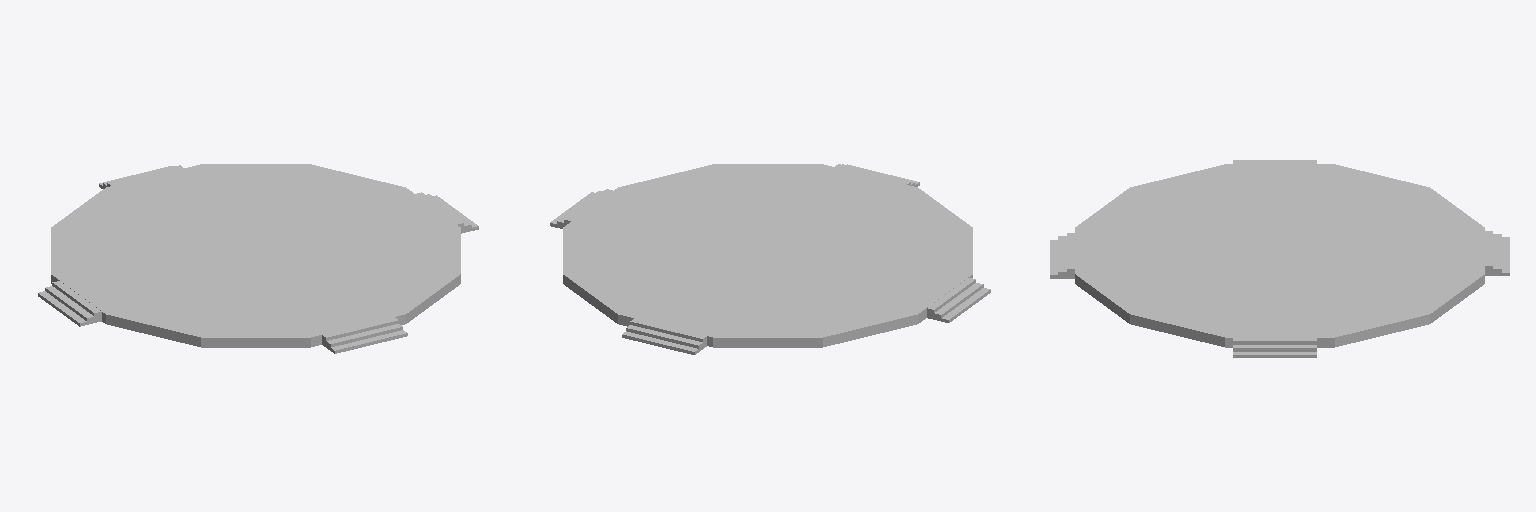
File: FightingPitPlatform.obj
3 renders of one model, left to right at view 1: azimuth 30°, elevation 25°; view 2: azimuth 150°, elevation 25°; view 3: azimuth 270°, elevation 25°, orthographic.
Visible parts, largest first — view 1: FightingPitPlatform; view 2: FightingPitPlatform; view 3: FightingPitPlatform.
Part boxes in pixels (x1,y1,x2,y2): FightingPitPlatform: (38, 164, 478, 353); FightingPitPlatform: (550, 164, 990, 354); FightingPitPlatform: (1050, 160, 1509, 357).
Bounding box in the file's own units: 8.77 × 0.2132 × 8.77.